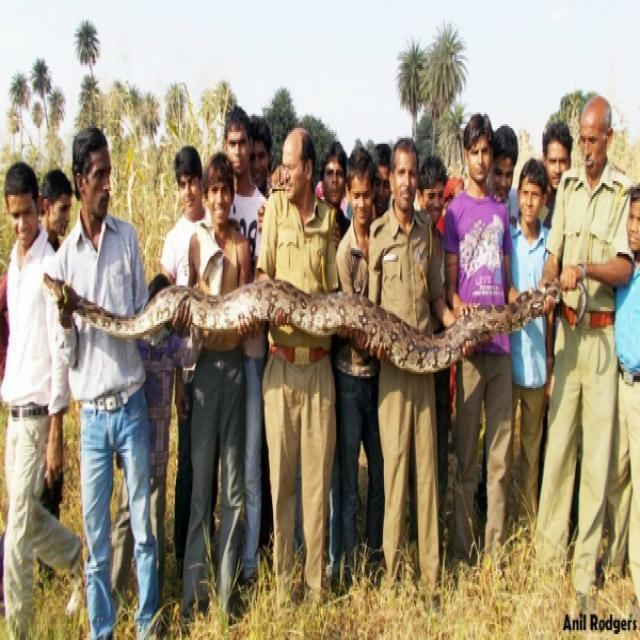Snake: (41, 266, 586, 374)
